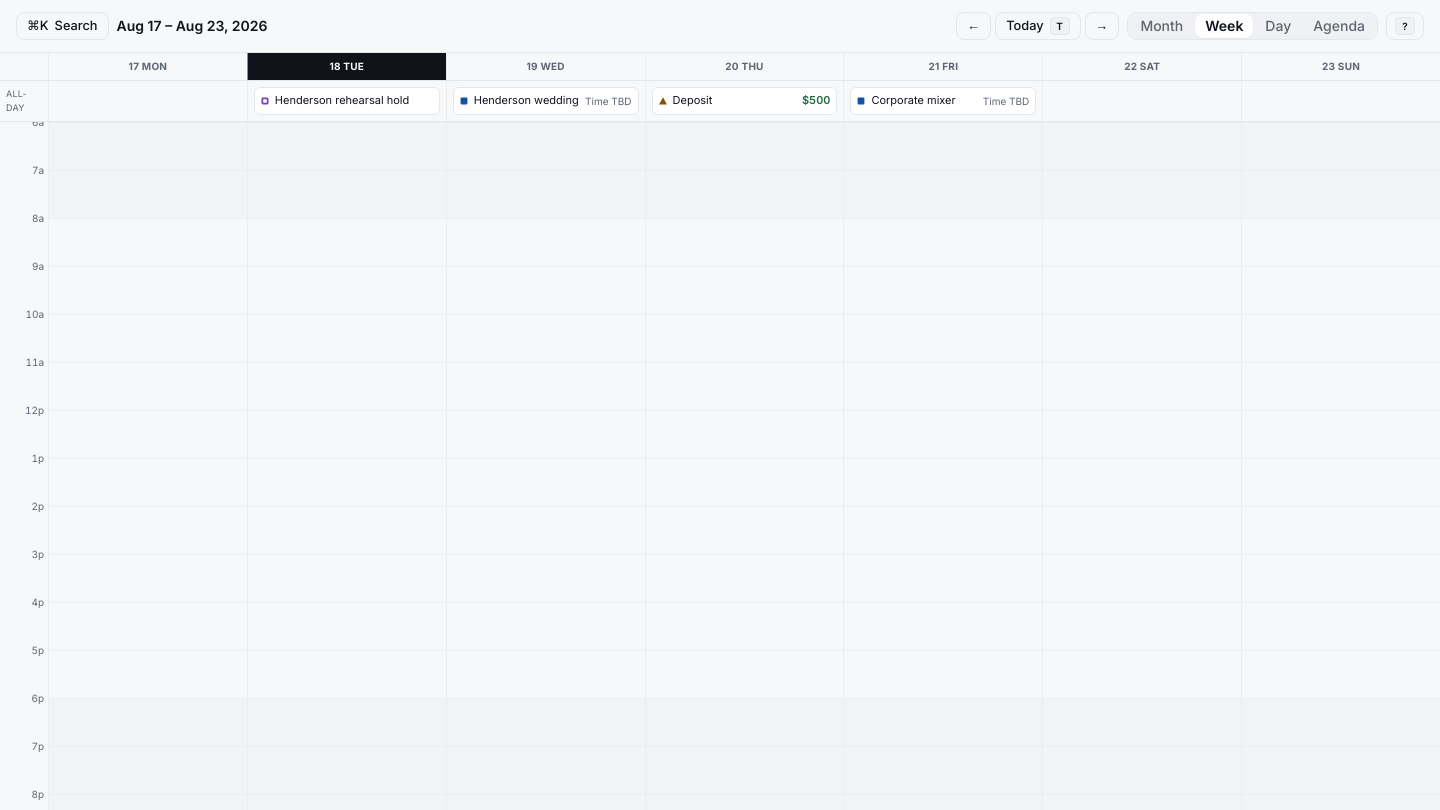
Test: CalendarCanvas — the command palette searches the feed › groups the results — dates, then the calendar, then the commands
The width and height of the screenshot is (1440, 810).
Press k
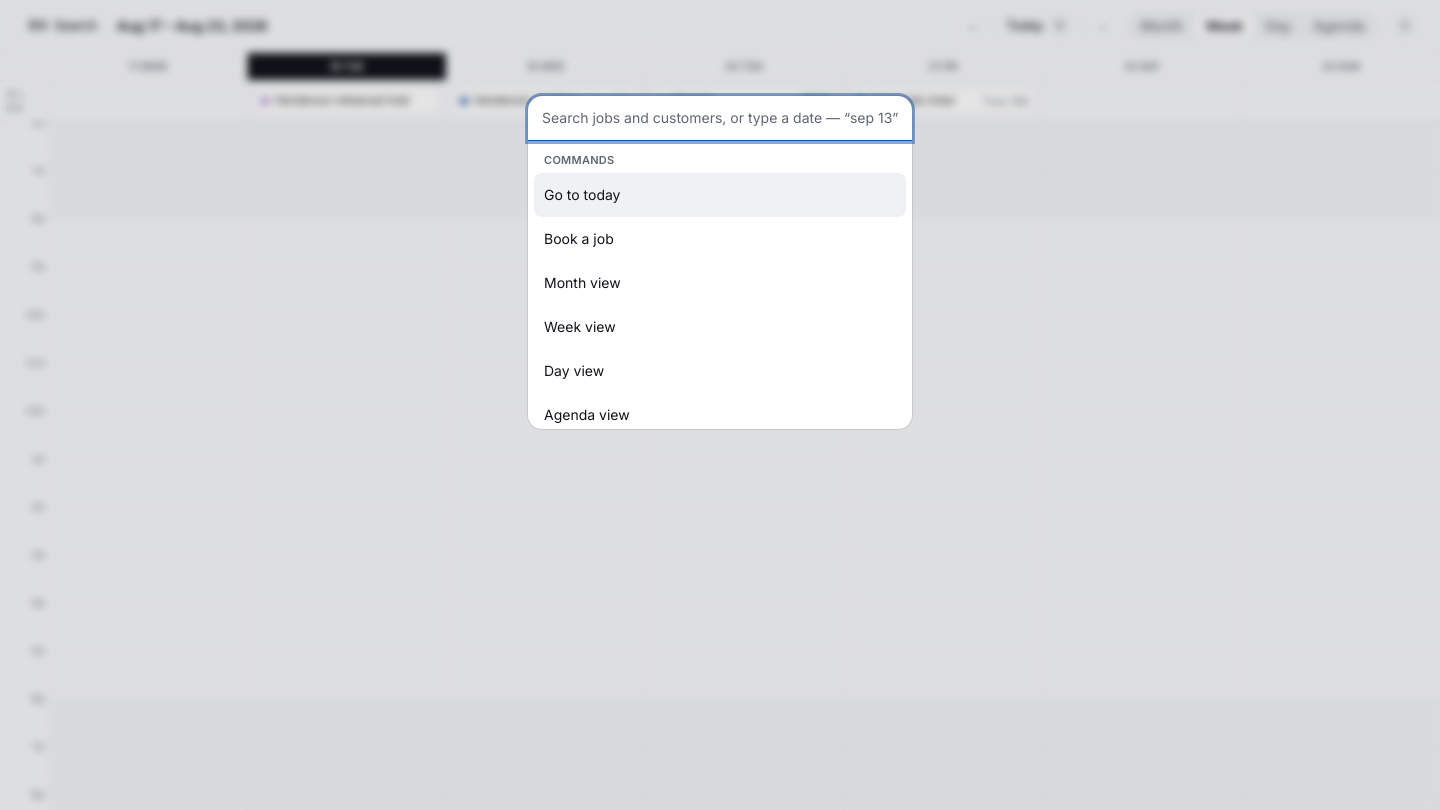
Replace the text in the dropdown with "2026-08-19": (720, 118) x1=528 y1=96 x2=912 y2=141
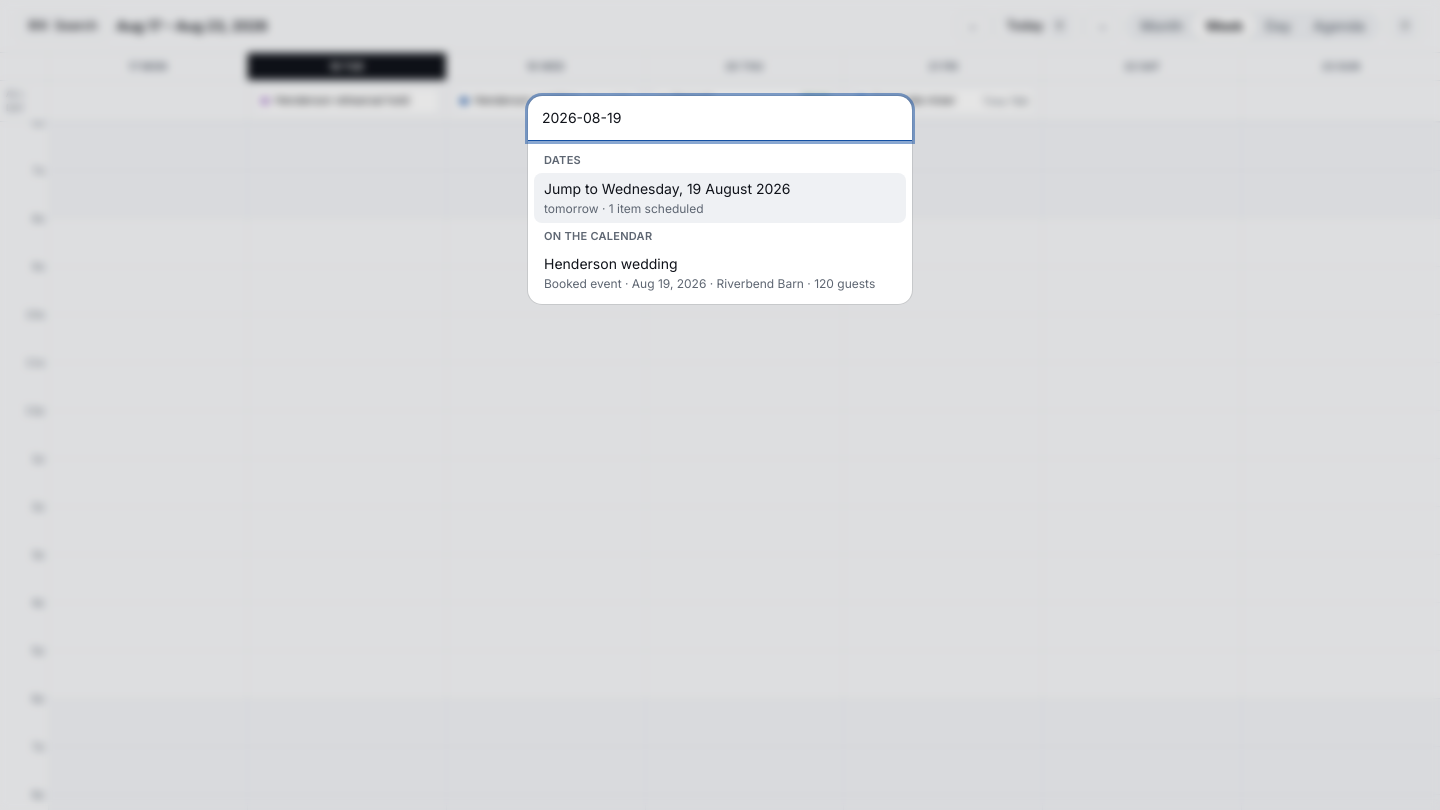
Now the text "Dates" is shown, box x1=544 y1=153 x2=581 y2=167
Now the text "On the calendar" is shown, box x1=544 y1=229 x2=652 y2=243
